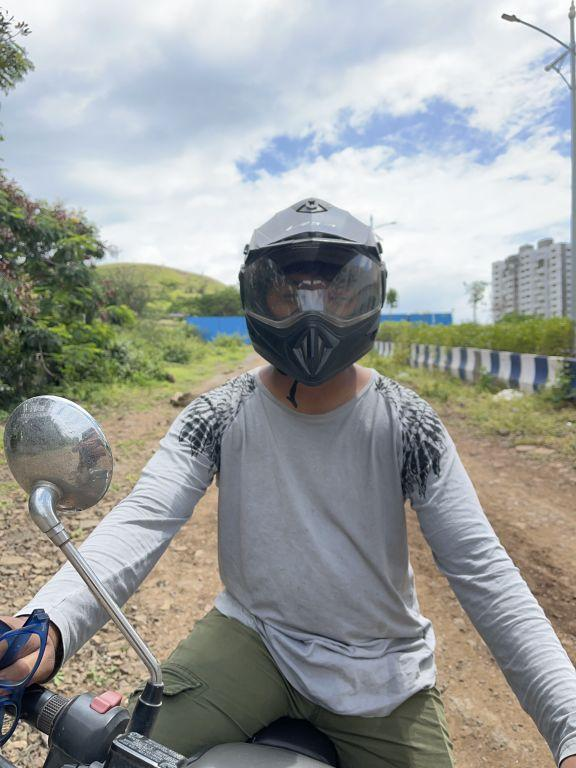helmet: (225, 180, 405, 402)
